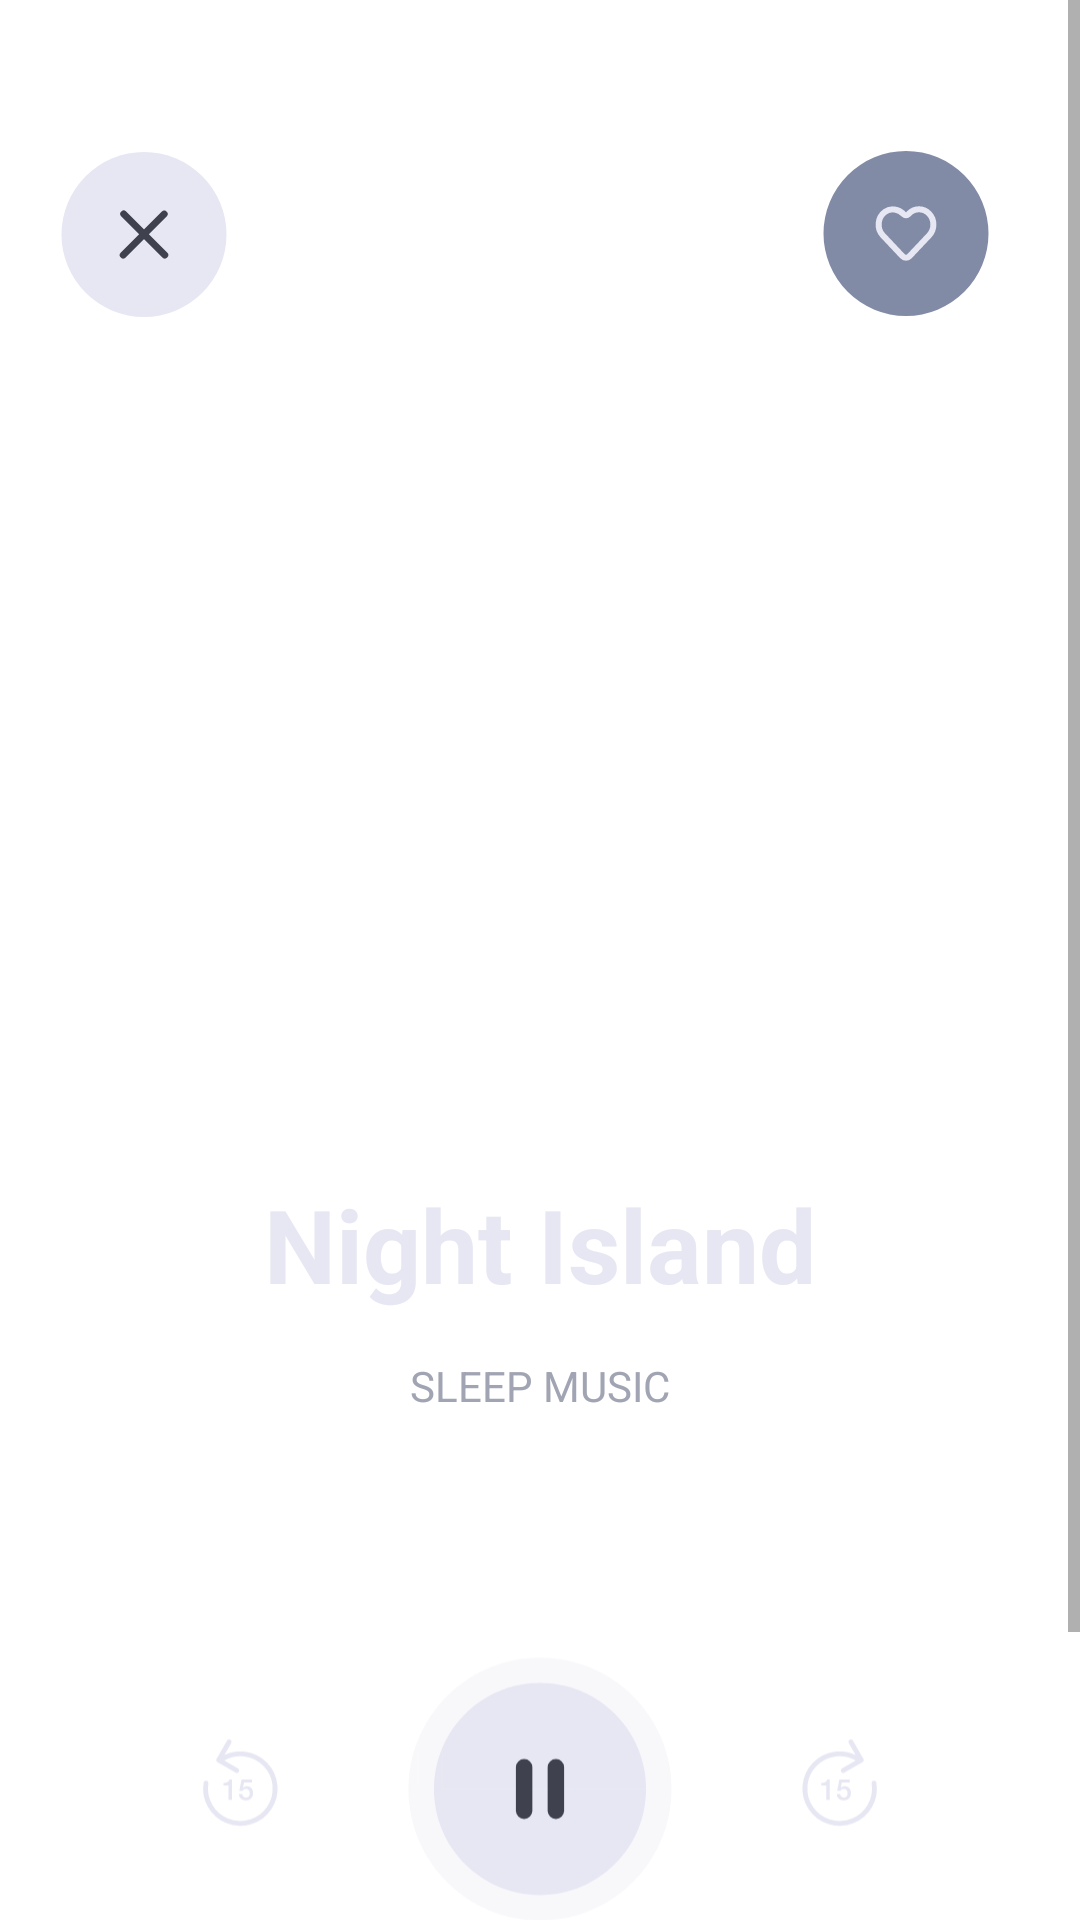

Where icons sit on this 1080*1920 app screen, as (x1, y1, x2, y2):
like sleep: (823, 151, 989, 316)
